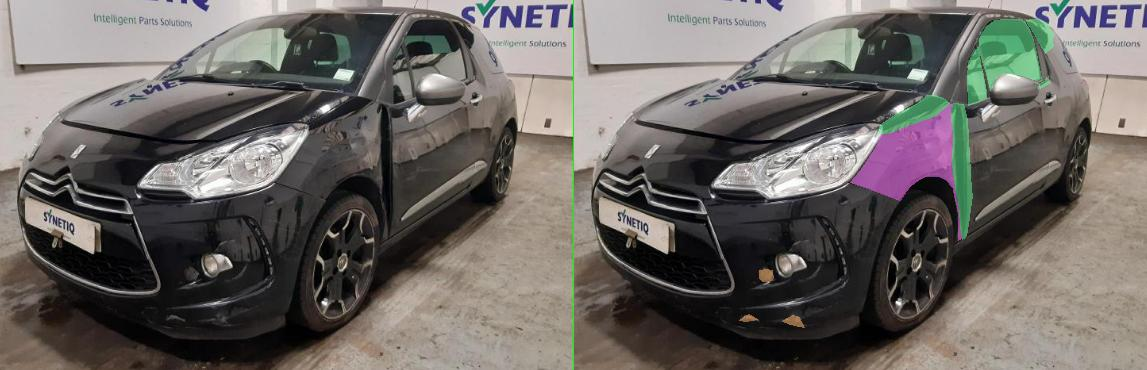Broken part: (811, 19, 935, 90), (755, 103, 797, 239), (607, 95, 751, 133), (787, 46, 825, 105), (905, 19, 959, 53), (929, 77, 953, 89)
Dent: (552, 103, 777, 240)
Paint chip: (416, 315, 460, 327), (370, 269, 398, 281), (330, 314, 366, 321)
